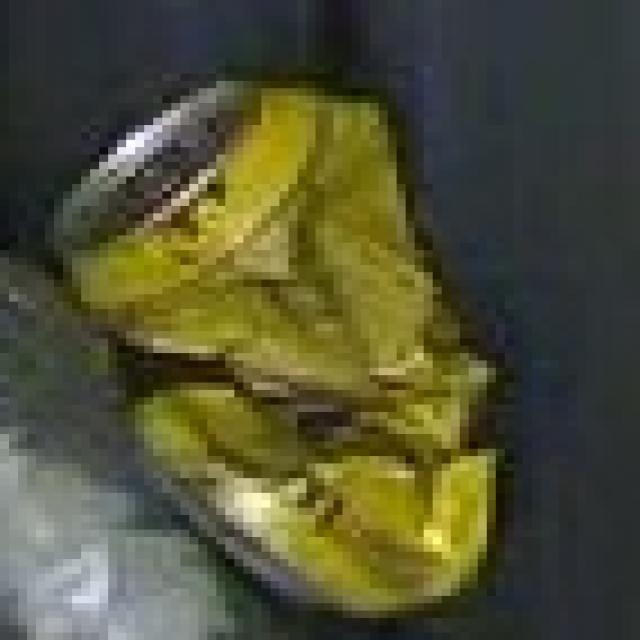can: (20, 0, 571, 640)
